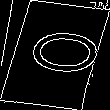O_E: (9, 29, 101, 81)
